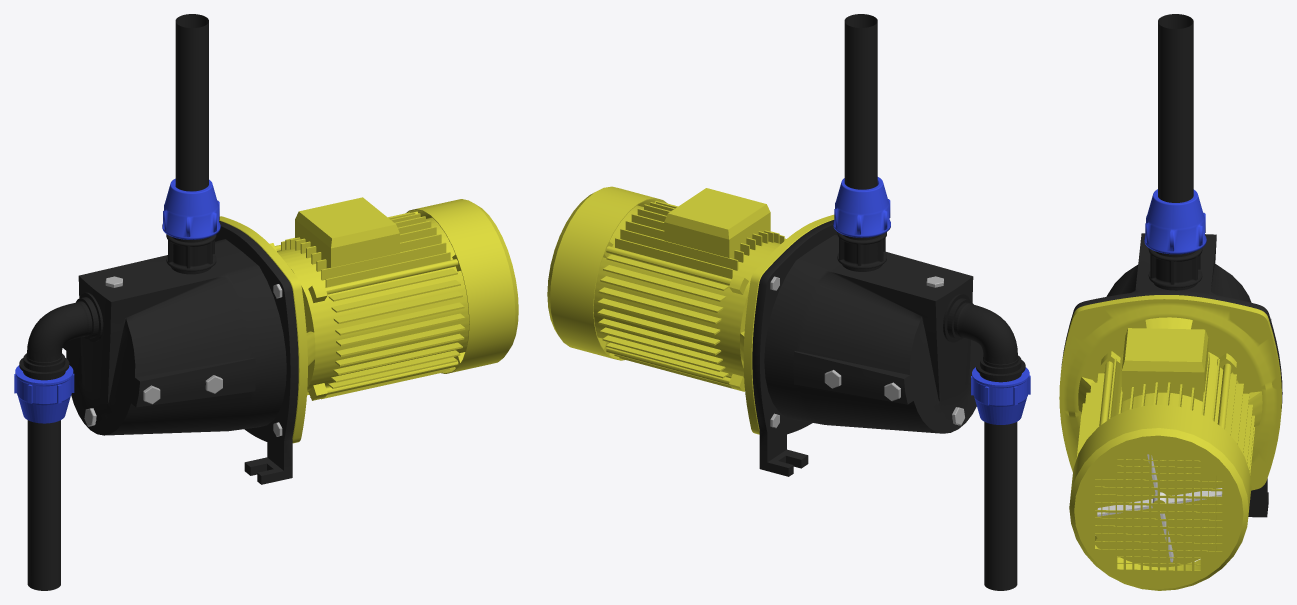
Rendered from format2.fbx.
3 renders of one model, left to right at view 1: azimuth 30°, elevation 25°; view 2: azimuth 150°, elevation 25°; view 3: azimuth 270°, elevation 25°, orthographic. The views are drawn at different scales.
Parts seen in each view (by area): view 1: Nasos low, Статор, Труба, Звдняя крышка, Cube, болт; view 2: Nasos low, Статор, Труба, Звдняя крышка, Cube, болт; view 3: Статор, Звдняя крышка, Труба, Cube, Nasos low.
Part boxes in pixels (x1,y1,x2,y2): Nasos low: (62, 220, 298, 484); Статор: (219, 211, 469, 443); Труба: (14, 14, 220, 590); Звдняя крышка: (406, 199, 518, 373); Cube: (295, 197, 399, 268); болт: (84, 276, 282, 436); Nasos low: (752, 220, 983, 476); Статор: (593, 200, 834, 434); Труба: (833, 14, 1030, 590); Звдняя крышка: (547, 186, 667, 360); Cube: (664, 188, 770, 258); болт: (770, 276, 964, 428); Статор: (1059, 295, 1281, 567); Звдняя крышка: (1069, 404, 1251, 590); Труба: (1144, 14, 1206, 290); Cube: (1121, 328, 1208, 401); Nasos low: (1061, 233, 1282, 517).
Size of the model in its own units: 82.82 by 92.32 by 32.97.
